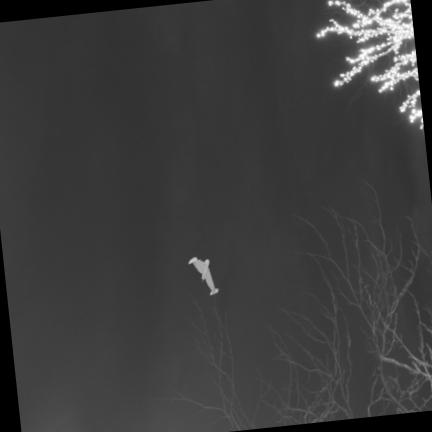Shahed: (188, 256, 218, 293)
